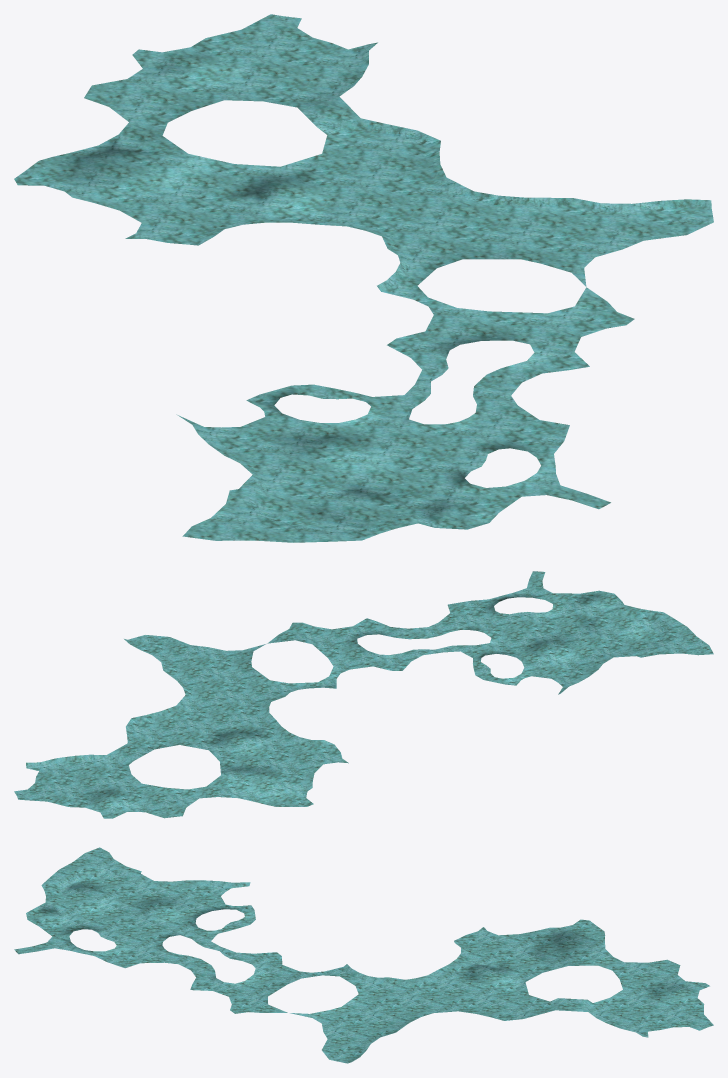
File: EKH_CAVERNS_PS_CA_MAIN_LAKE_FLOOR_01.fbx
The picture shows the model from 3 angles, top to bottom: view 1: azimuth 30°, elevation 25°; view 2: azimuth 150°, elevation 25°; view 3: azimuth 270°, elevation 25°; orthographic projection. The views are drawn at different scales.
Visible parts, largest first — view 1: EKH_CAVERNS_PS_CA_MAIN_LAKE_FLOOR_01; view 2: EKH_CAVERNS_PS_CA_MAIN_LAKE_FLOOR_01; view 3: EKH_CAVERNS_PS_CA_MAIN_LAKE_FLOOR_01.
Boxes of the visible parts, x1,y1,x2,y2 form: EKH_CAVERNS_PS_CA_MAIN_LAKE_FLOOR_01: [14, 14, 713, 542]; EKH_CAVERNS_PS_CA_MAIN_LAKE_FLOOR_01: [14, 571, 713, 818]; EKH_CAVERNS_PS_CA_MAIN_LAKE_FLOOR_01: [14, 847, 713, 1063].
Bounding box in the file's own units: 475340 × 2550 × 654751.
Materials: 1 (1 with a texture image).
